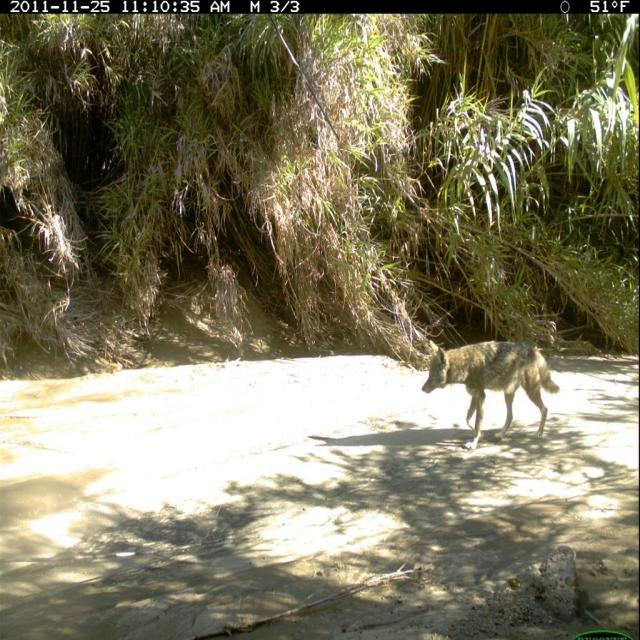coyote: (421, 338, 564, 452)
